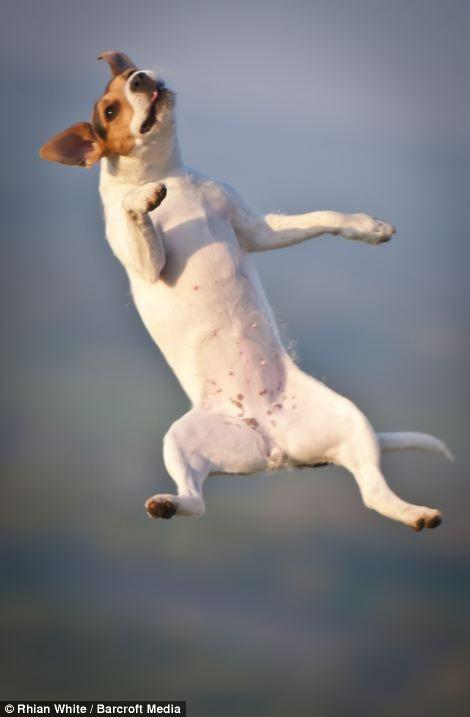adult_dog: (34, 48, 458, 534)
